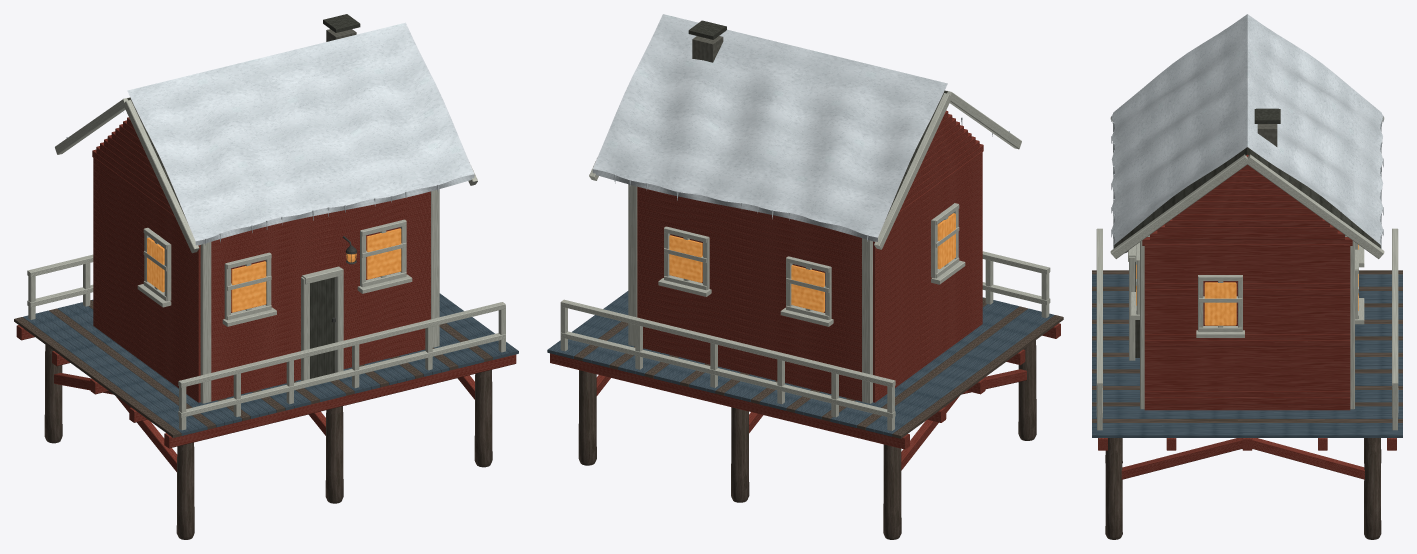
Rendered from rorbu_cabin.glb.
3 renders of one model, left to right at view 1: azimuth 30°, elevation 25°; view 2: azimuth 150°, elevation 25°; view 3: azimuth 270°, elevation 25°, orthographic. The views are drawn at different scales.
Visible parts, largest first — view 1: rorbu_cabin; view 2: rorbu_cabin; view 3: rorbu_cabin.
Boxes of the visible parts, x1,y1,x2,y2 form: rorbu_cabin: (14,14,518,539); rorbu_cabin: (547,14,1063,539); rorbu_cabin: (1092,14,1402,539).
Bounding box in the file's own units: 5.8 × 6.4 × 4.6.
Materials: 2 (2 with a texture image).
